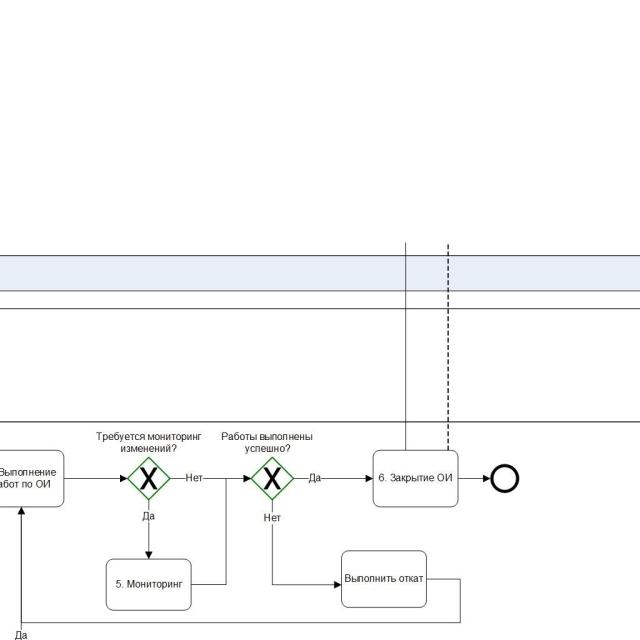arrow: (18, 507, 462, 624), (192, 474, 250, 587), (270, 500, 340, 589), (293, 474, 373, 483), (171, 474, 250, 483), (62, 474, 126, 484), (146, 500, 154, 559), (458, 475, 491, 483)
circle: (490, 464, 519, 493)
diamond: (128, 458, 170, 499), (252, 457, 293, 499)
rectangle: (342, 550, 426, 608), (374, 450, 458, 506), (106, 559, 191, 610)
text_region: (94, 430, 207, 456), (220, 431, 316, 454), (184, 472, 205, 484), (264, 511, 283, 524), (141, 510, 157, 522), (308, 472, 320, 484)
